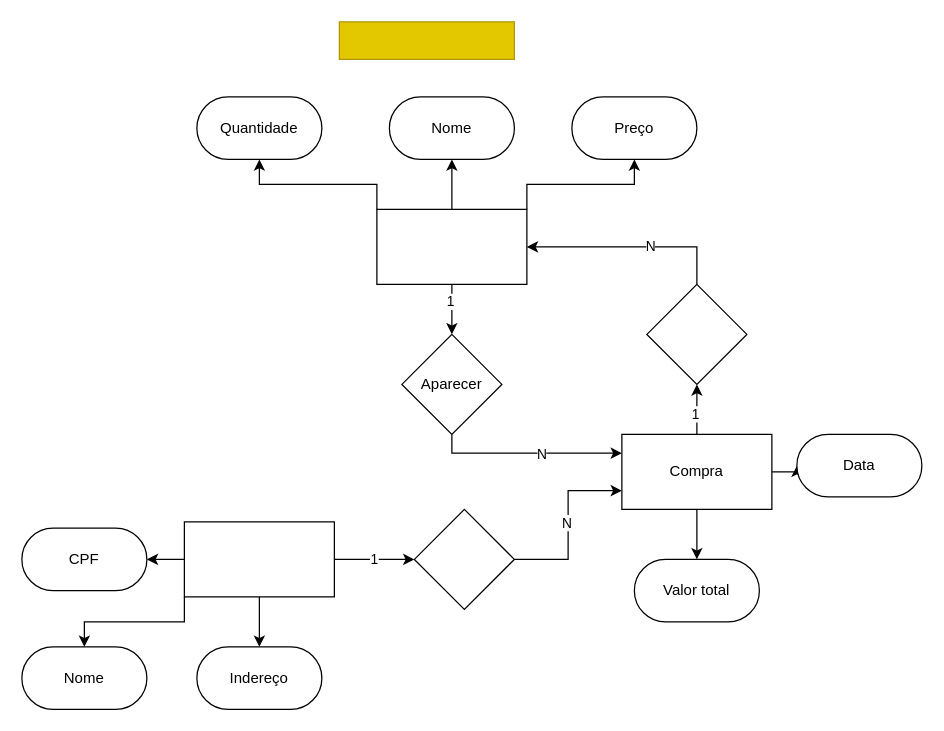
The diagram is 944 pixels wide and 731 high, and some of its shapes have lost their labels. Here are the shapes that lost their labels. From the top down, the centre of each, then its label:
pixel 426 40: Exercício 3 - Loja online
pixel 451 246: Produtos
pixel 696 333: Incluir
pixel 258 559: Cliente
pixel 463 558: Fazer
